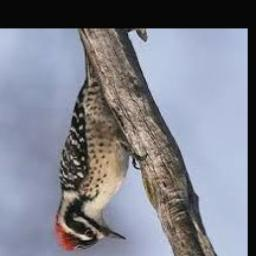Woodpecker: (52, 51, 147, 251)
